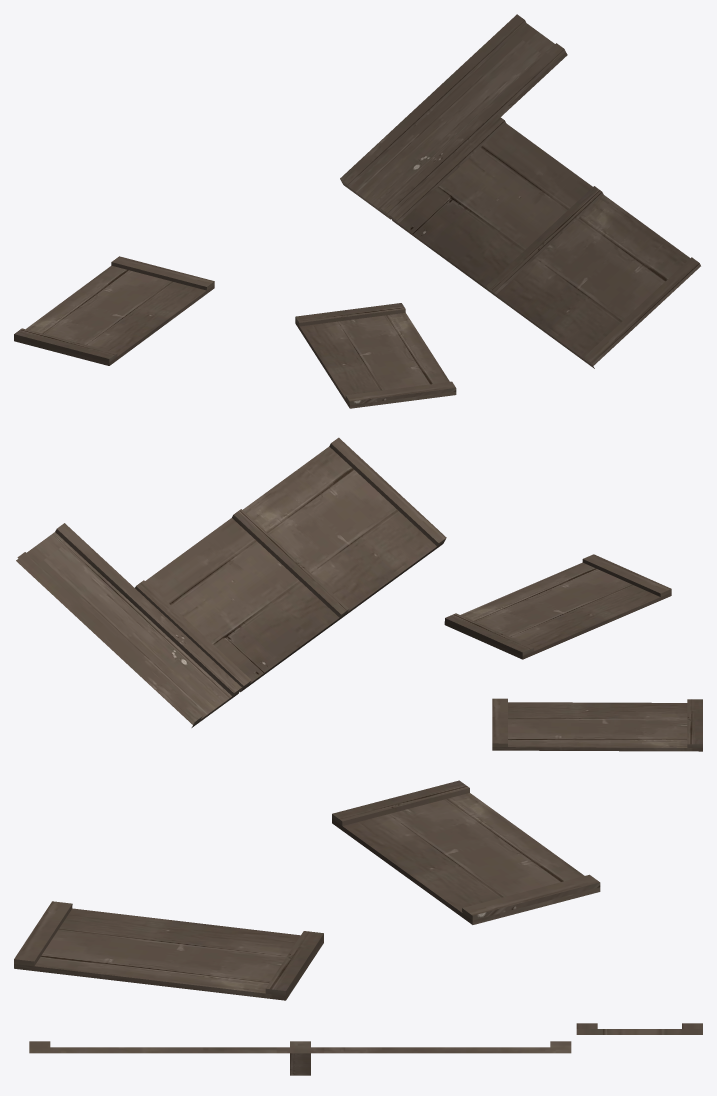
The picture shows the model from 3 angles, top to bottom: view 1: azimuth 30°, elevation 25°; view 2: azimuth 150°, elevation 25°; view 3: azimuth 270°, elevation 25°; orthographic projection. The views are drawn at different scales.
Visible parts, largest first — view 1: body0_model0_lod0_mesh0; view 2: body0_model0_lod0_mesh0; view 3: body0_model0_lod0_mesh0.
Part boxes in pixels (<box>): body0_model0_lod0_mesh0: <box>14,14,700,408</box>; body0_model0_lod0_mesh0: <box>16,437,702,751</box>; body0_model0_lod0_mesh0: <box>14,780,702,1075</box>.
Size of the model in its own units: 351 by 72 by 262.
1 material, 1 textured.
